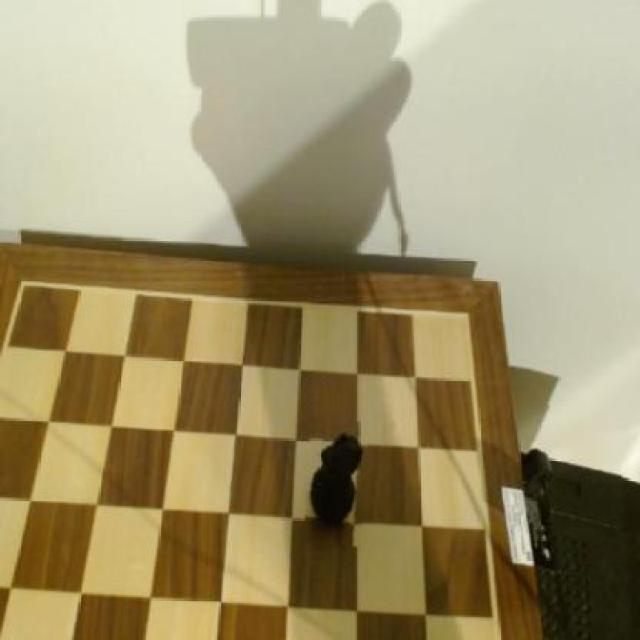black-king: (306, 419, 367, 546)
